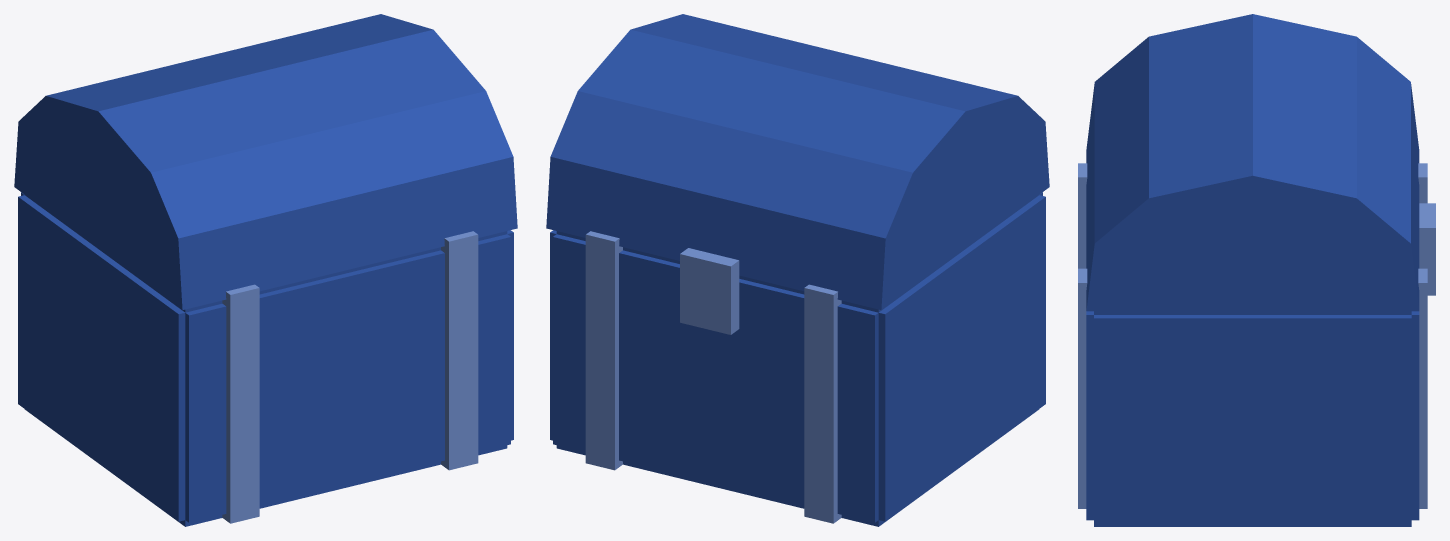
The model's file is mushroom_chest_v0.glb.
3 views of the same model, side by side, from view 1: azimuth 30°, elevation 25°; view 2: azimuth 150°, elevation 25°; view 3: azimuth 270°, elevation 25° (orthographic).
Parts seen in each view (by area): view 1: mushroom_chest_v0; view 2: mushroom_chest_v0; view 3: mushroom_chest_v0.
Part boxes in pixels (x1=…): mushroom_chest_v0: x1=14, y1=14, x2=517, y2=526; mushroom_chest_v0: x1=546, y1=14, x2=1049, y2=526; mushroom_chest_v0: x1=1078, y1=14, x2=1435, y2=526.
Bounding box in the file's own units: 0.92 × 0.94 × 0.86.
